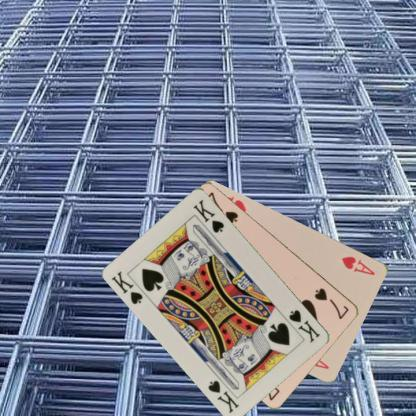7s: (312, 285, 351, 321)
Ah: (339, 253, 377, 277)
Ks: (286, 307, 322, 344), (110, 268, 145, 306)
